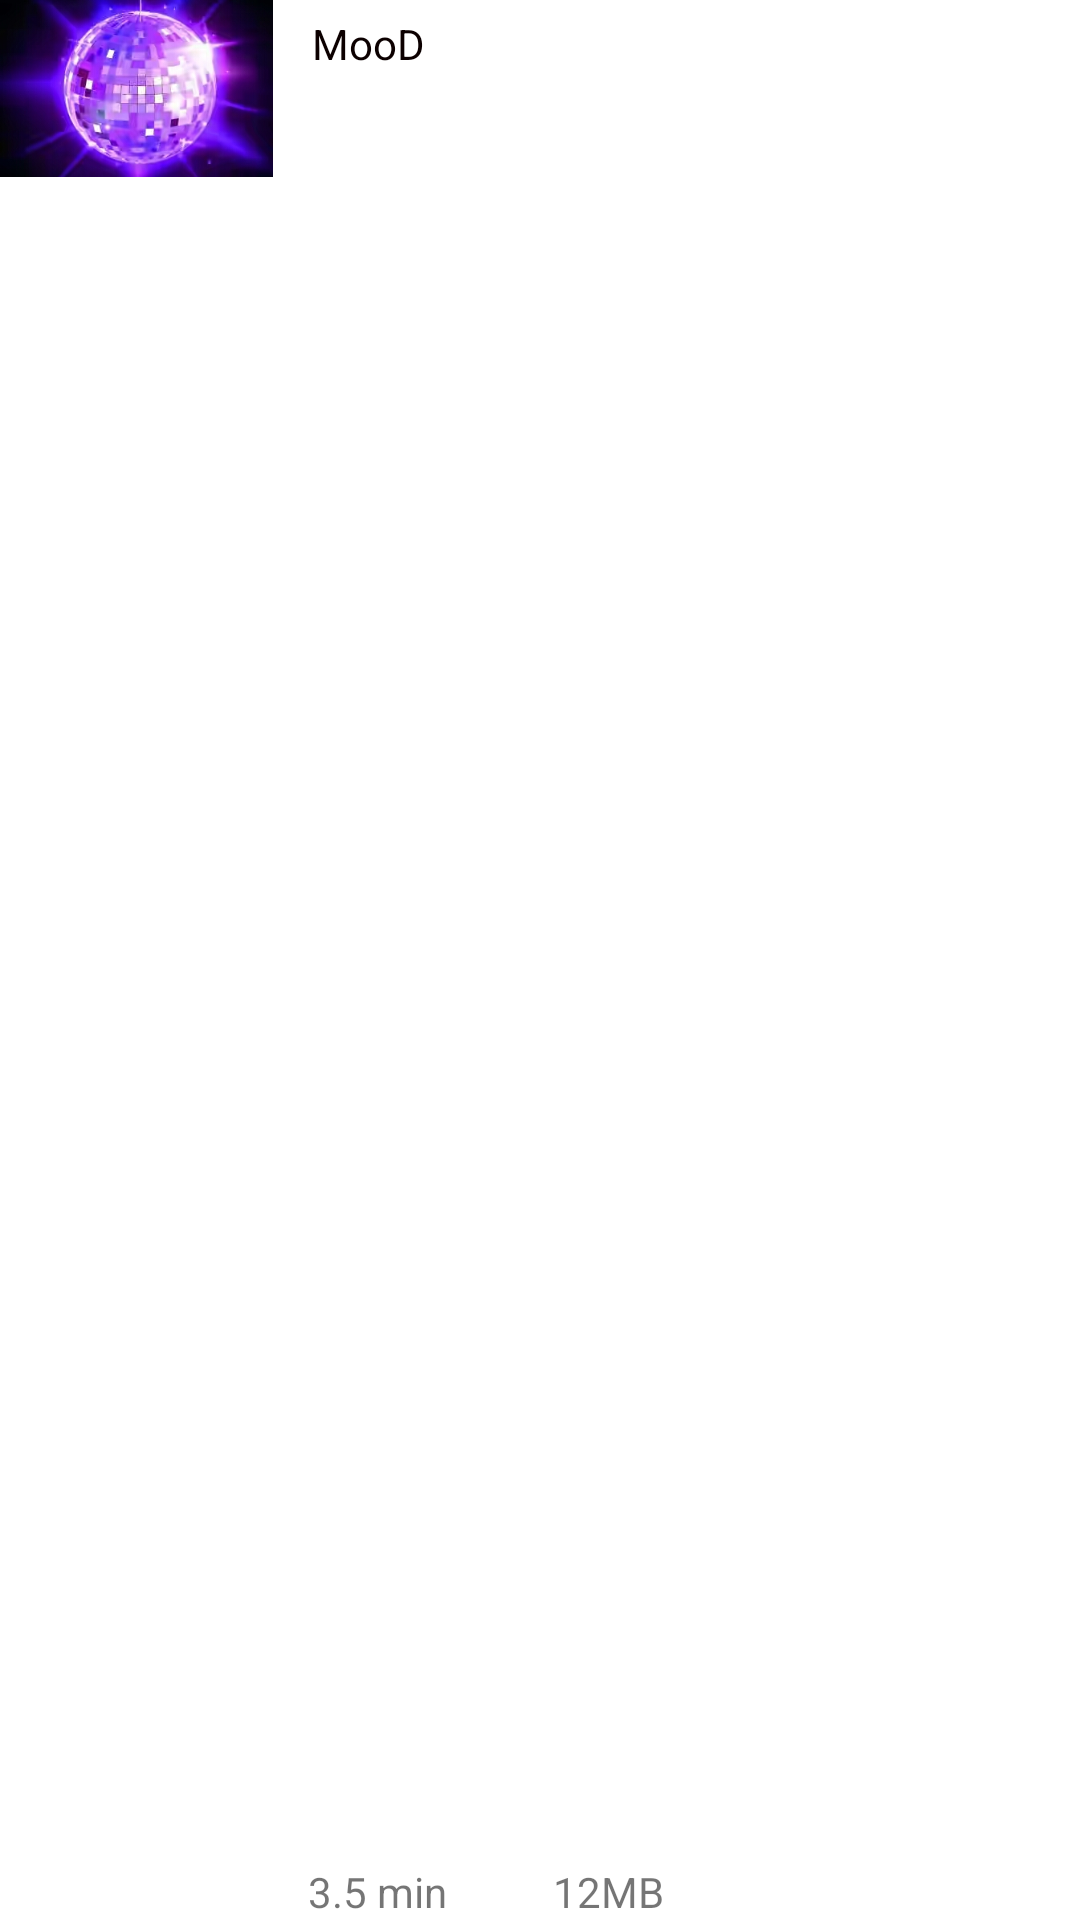

Icon click points for this 1080x1920 phone screenshot, format (x=x, y=y):
albumart: (x=136, y=88)
